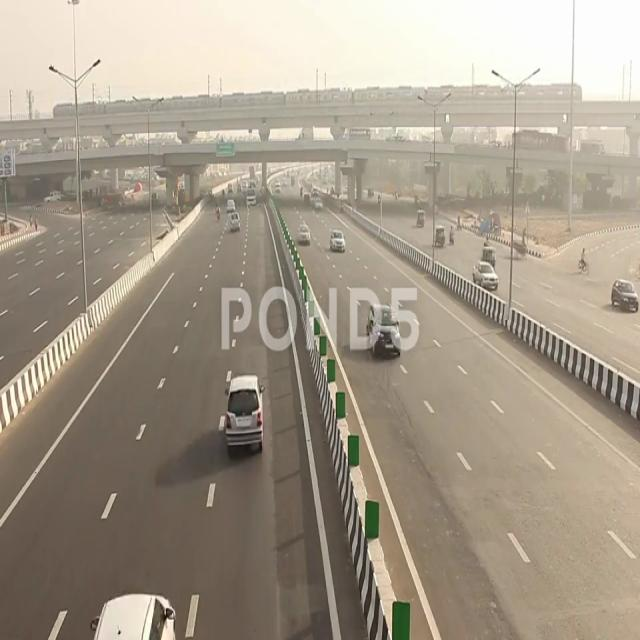car: (218, 352, 266, 462), (368, 297, 406, 368), (610, 271, 638, 325)
